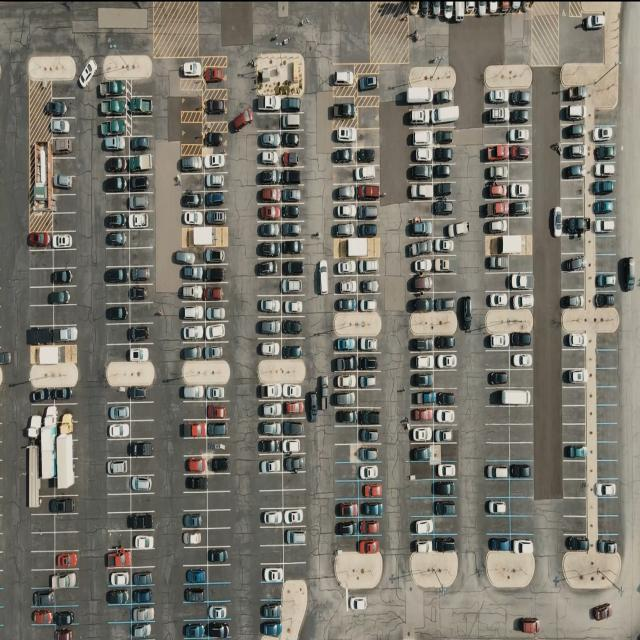space-empty: (482, 349, 508, 370), (406, 200, 433, 220), (558, 198, 586, 217), (106, 528, 131, 549), (482, 126, 508, 146), (128, 117, 154, 137), (560, 178, 586, 198), (560, 235, 586, 255), (434, 273, 460, 293), (180, 400, 206, 420), (128, 230, 155, 249), (484, 480, 511, 499), (435, 370, 459, 391), (106, 323, 130, 344), (510, 368, 535, 388), (560, 349, 585, 369), (105, 476, 130, 496), (257, 277, 282, 297), (562, 406, 587, 426), (562, 479, 587, 499), (207, 510, 232, 530), (105, 284, 131, 303), (509, 480, 535, 499), (486, 407, 512, 426), (356, 106, 379, 127), (55, 305, 78, 326), (509, 162, 533, 182), (180, 124, 204, 144), (562, 386, 586, 406), (260, 526, 284, 546), (30, 306, 54, 326), (207, 490, 231, 510), (106, 512, 130, 532), (130, 456, 154, 476), (335, 424, 359, 444), (510, 496, 534, 516), (334, 480, 358, 500), (30, 286, 54, 306), (432, 218, 456, 238), (106, 493, 131, 512), (182, 439, 207, 458), (29, 269, 54, 288), (562, 459, 587, 478), (356, 389, 381, 408), (30, 532, 55, 551), (485, 273, 510, 292), (104, 192, 129, 211), (31, 515, 56, 534), (31, 552, 56, 571), (182, 601, 207, 620), (486, 424, 511, 443), (486, 516, 512, 534), (508, 254, 534, 272), (256, 113, 282, 131), (128, 248, 154, 266), (595, 349, 618, 369), (131, 402, 154, 422), (595, 236, 618, 256), (52, 193, 76, 212), (29, 250, 53, 269), (282, 544, 306, 563), (56, 531, 80, 550), (562, 423, 586, 442), (508, 217, 532, 236), (131, 420, 155, 439), (355, 129, 379, 148), (282, 489, 306, 508), (510, 424, 534, 443), (52, 212, 76, 231), (411, 461, 435, 480), (485, 442, 509, 461), (334, 462, 358, 481), (562, 497, 586, 516), (563, 516, 587, 535), (208, 528, 232, 547), (178, 174, 203, 192), (182, 492, 207, 510), (52, 80, 77, 98), (130, 304, 152, 324), (32, 568, 54, 588), (208, 563, 231, 582), (106, 439, 129, 458), (596, 386, 619, 405), (596, 405, 619, 424), (261, 472, 284, 491), (105, 248, 128, 267), (283, 562, 306, 581), (207, 583, 230, 602), (435, 516, 459, 534), (55, 588, 79, 606), (560, 273, 584, 291), (183, 548, 207, 566), (53, 159, 77, 177), (132, 493, 156, 511), (281, 471, 305, 489), (132, 550, 156, 568), (107, 604, 131, 622), (261, 490, 285, 508), (511, 516, 535, 534), (130, 78, 154, 96), (595, 333, 619, 351), (510, 443, 534, 461), (409, 480, 433, 498), (510, 406, 534, 424), (29, 212, 50, 232), (55, 249, 77, 268), (596, 367, 618, 386), (596, 423, 618, 442), (597, 516, 619, 535), (596, 496, 618, 515), (333, 166, 356, 184), (262, 584, 285, 602), (261, 546, 284, 564), (56, 515, 79, 533), (207, 475, 230, 493), (335, 534, 358, 552), (105, 386, 129, 403), (410, 497, 434, 514), (592, 109, 616, 126), (108, 623, 132, 640), (597, 442, 618, 461), (334, 444, 356, 462), (180, 95, 203, 112), (106, 346, 130, 362), (597, 460, 618, 478), (596, 256, 617, 274), (32, 626, 55, 640)
space-occupied: (490, 386, 533, 405), (99, 116, 129, 136), (333, 98, 358, 122), (48, 97, 76, 118), (404, 106, 432, 127), (98, 98, 127, 118), (560, 216, 589, 236), (588, 178, 616, 198), (407, 238, 435, 258), (101, 136, 129, 156), (256, 316, 281, 338), (258, 296, 283, 318), (408, 181, 434, 202), (485, 496, 511, 517), (407, 217, 434, 237), (408, 274, 435, 294), (484, 459, 511, 479), (180, 58, 203, 81), (203, 66, 227, 88), (334, 66, 356, 90), (510, 348, 535, 369), (434, 105, 459, 126), (561, 368, 586, 389), (183, 527, 208, 548), (482, 106, 508, 126), (50, 118, 76, 138), (101, 78, 127, 98), (483, 180, 509, 200), (560, 142, 586, 162), (560, 124, 586, 144), (508, 459, 534, 479), (560, 103, 586, 123), (182, 620, 208, 640), (408, 423, 434, 443), (408, 293, 435, 312), (483, 333, 510, 352), (332, 389, 359, 408), (205, 96, 228, 118), (52, 137, 76, 158), (105, 304, 129, 325), (258, 338, 282, 359), (129, 155, 154, 175), (128, 96, 153, 116), (129, 266, 154, 286), (181, 511, 206, 531), (104, 156, 129, 176), (333, 126, 358, 146), (257, 240, 282, 260), (592, 216, 617, 236), (483, 163, 508, 183), (178, 153, 203, 173), (560, 289, 585, 309), (353, 164, 378, 184), (334, 275, 359, 295), (410, 443, 435, 463), (333, 371, 358, 391), (590, 126, 616, 145), (180, 419, 206, 438), (104, 174, 130, 193), (408, 255, 434, 274), (564, 533, 590, 552), (407, 129, 433, 148), (281, 316, 303, 338), (435, 350, 459, 370), (130, 475, 154, 495), (29, 231, 53, 251), (56, 551, 80, 571), (106, 419, 130, 439), (55, 568, 79, 588), (56, 324, 80, 344), (180, 303, 204, 323), (510, 272, 534, 292), (280, 276, 304, 296), (108, 567, 132, 587), (281, 398, 305, 418), (104, 267, 129, 286), (562, 443, 587, 462), (105, 210, 130, 229), (335, 336, 360, 355), (179, 282, 204, 301), (484, 89, 509, 108), (334, 293, 359, 312), (410, 370, 435, 389), (259, 418, 284, 437), (483, 216, 508, 235), (128, 137, 154, 155), (128, 211, 154, 229), (560, 256, 586, 274), (179, 384, 205, 402), (410, 388, 436, 406), (590, 200, 616, 218), (591, 162, 617, 180), (487, 534, 513, 552), (354, 445, 380, 463), (591, 143, 617, 161), (130, 322, 152, 343), (356, 74, 378, 95), (281, 339, 303, 360), (348, 591, 370, 612), (262, 563, 285, 583), (281, 297, 304, 317), (204, 153, 227, 173), (208, 600, 231, 620), (333, 148, 356, 168), (205, 282, 228, 302), (334, 202, 357, 222), (53, 284, 76, 304), (260, 454, 283, 474), (205, 130, 228, 150), (205, 303, 228, 323), (486, 369, 509, 389), (181, 321, 204, 341), (207, 620, 230, 640), (509, 180, 533, 199), (261, 509, 285, 528), (509, 143, 533, 162), (434, 237, 458, 256), (258, 220, 282, 239), (510, 290, 534, 309), (183, 565, 207, 584), (129, 192, 153, 211), (484, 144, 508, 163), (203, 171, 227, 190), (509, 106, 533, 125), (182, 456, 206, 475), (106, 550, 130, 569), (434, 256, 458, 275), (484, 289, 508, 308), (410, 516, 434, 535), (56, 605, 80, 624), (106, 403, 130, 422), (258, 148, 282, 167), (32, 608, 56, 627), (280, 149, 304, 168), (357, 518, 381, 537), (357, 481, 381, 500), (410, 352, 434, 371), (31, 188, 50, 212), (130, 439, 154, 458), (355, 183, 379, 202), (280, 437, 304, 456), (259, 401, 283, 420), (258, 204, 283, 222), (254, 95, 279, 113), (410, 336, 435, 354), (561, 162, 586, 180), (409, 408, 434, 426), (560, 86, 585, 104), (356, 462, 381, 480), (431, 480, 456, 498), (483, 201, 508, 219), (176, 248, 201, 266), (356, 202, 378, 222), (207, 454, 229, 474), (262, 600, 284, 620), (435, 407, 457, 427), (596, 534, 618, 554), (261, 620, 283, 640), (204, 322, 226, 342), (31, 589, 54, 608), (106, 457, 129, 476), (281, 259, 304, 278), (105, 230, 128, 249), (409, 145, 432, 164), (206, 418, 229, 437), (281, 240, 304, 259), (53, 232, 76, 251), (184, 475, 207, 494), (334, 183, 357, 202), (281, 418, 304, 437), (132, 513, 155, 532), (511, 533, 534, 552), (131, 566, 154, 585), (52, 175, 76, 193), (509, 126, 533, 144), (562, 333, 586, 351), (132, 531, 156, 549), (509, 200, 533, 218), (203, 190, 227, 208), (179, 190, 203, 208), (130, 174, 154, 192), (257, 169, 281, 187), (256, 260, 280, 278), (258, 131, 282, 149), (184, 585, 208, 603), (179, 266, 203, 284), (358, 498, 382, 516), (486, 254, 510, 272), (280, 454, 304, 472), (434, 425, 458, 443), (334, 408, 358, 426), (132, 604, 156, 622), (434, 534, 458, 552), (334, 354, 358, 372), (182, 209, 206, 227), (594, 290, 618, 308), (434, 498, 458, 516), (410, 534, 434, 552), (408, 165, 433, 182), (54, 268, 76, 287), (208, 547, 230, 566), (436, 388, 458, 407), (283, 508, 305, 527), (130, 283, 152, 302), (130, 344, 152, 363), (358, 276, 380, 295), (207, 402, 229, 421), (595, 479, 617, 498), (596, 272, 618, 291), (54, 383, 76, 402), (510, 90, 533, 108), (355, 146, 378, 164), (435, 335, 458, 353), (511, 333, 534, 351), (205, 384, 228, 402), (433, 129, 456, 147), (132, 587, 155, 605), (55, 496, 78, 514), (281, 220, 304, 238), (334, 219, 357, 237), (260, 438, 283, 456), (356, 409, 379, 427), (435, 292, 458, 310), (204, 210, 227, 228), (180, 343, 203, 361), (32, 386, 55, 404), (203, 342, 226, 360), (107, 588, 131, 605), (256, 185, 280, 202), (433, 461, 457, 478), (357, 256, 378, 275), (357, 352, 378, 371), (434, 164, 456, 182), (434, 145, 456, 163), (432, 182, 454, 200), (336, 498, 358, 516), (434, 200, 456, 218), (283, 527, 305, 545), (280, 131, 302, 149), (355, 221, 377, 239), (281, 204, 303, 222), (356, 372, 378, 390), (357, 425, 379, 443), (132, 622, 154, 640), (280, 97, 303, 114), (336, 518, 359, 535), (281, 383, 304, 400), (280, 170, 303, 187), (204, 247, 227, 264), (357, 296, 378, 314), (357, 337, 379, 354), (336, 260, 358, 277), (130, 385, 152, 402), (281, 185, 303, 202), (431, 91, 454, 107), (259, 384, 282, 400), (280, 114, 302, 130)
